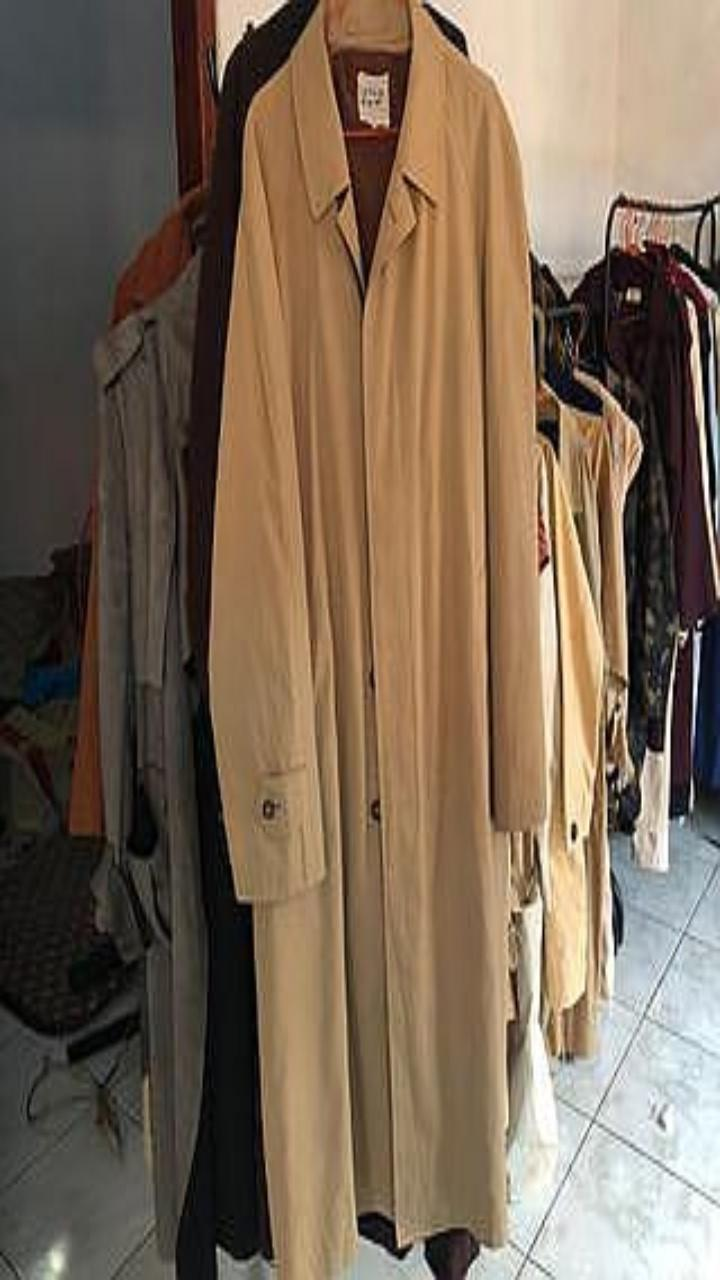Coat: (94, 257, 206, 1256)
